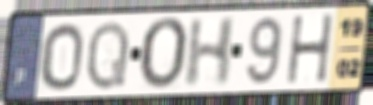9: (243, 15, 285, 86)
H: (182, 14, 239, 89), (285, 12, 336, 86)
O: (138, 15, 191, 92), (38, 21, 85, 93)
Q: (83, 18, 132, 93)
